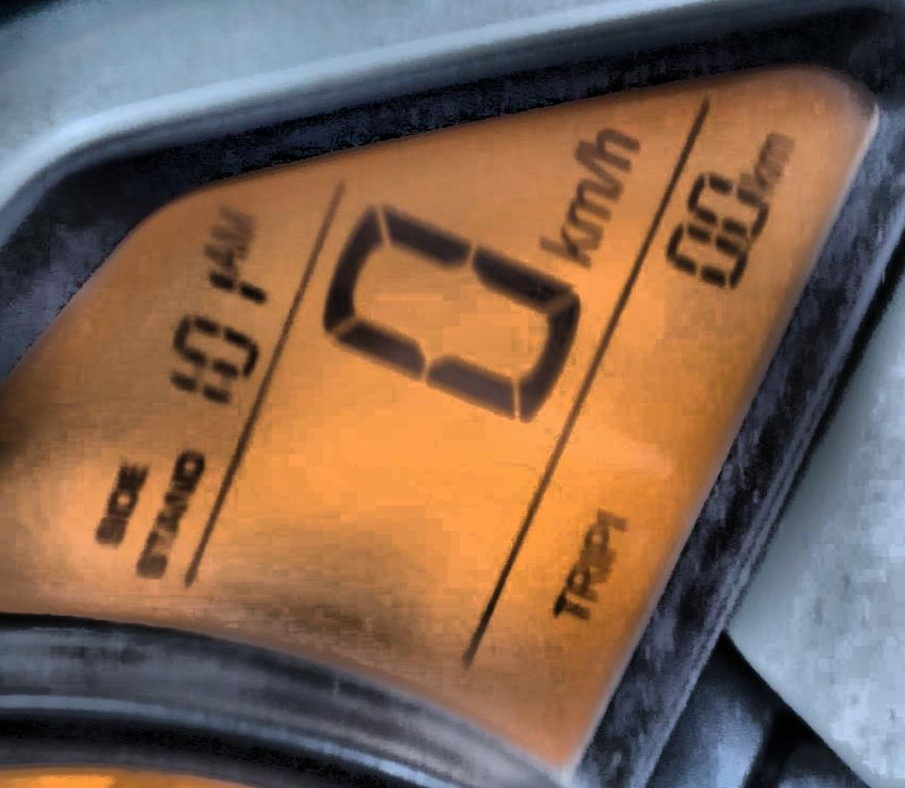-: (737, 239, 755, 250)
0: (316, 204, 582, 420), (174, 315, 261, 376), (687, 173, 768, 237), (663, 225, 742, 284)
1: (197, 270, 274, 305), (169, 373, 239, 407), (593, 510, 627, 531)
X: (566, 180, 615, 236), (579, 125, 638, 170), (536, 226, 598, 267), (572, 149, 620, 190), (214, 206, 256, 245), (561, 562, 600, 599), (547, 589, 585, 619), (201, 244, 245, 269), (581, 522, 613, 556), (755, 132, 788, 163), (113, 462, 151, 488), (744, 164, 780, 190), (173, 450, 204, 480), (165, 482, 194, 511), (110, 488, 140, 515), (135, 551, 162, 578), (154, 512, 185, 532), (580, 548, 609, 568), (94, 526, 126, 543), (147, 532, 174, 551), (101, 516, 127, 528)
